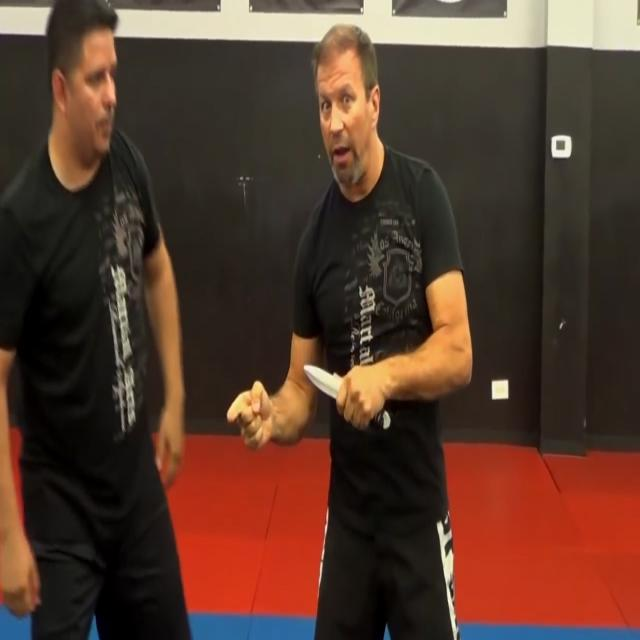knife: (301, 352, 343, 407)
